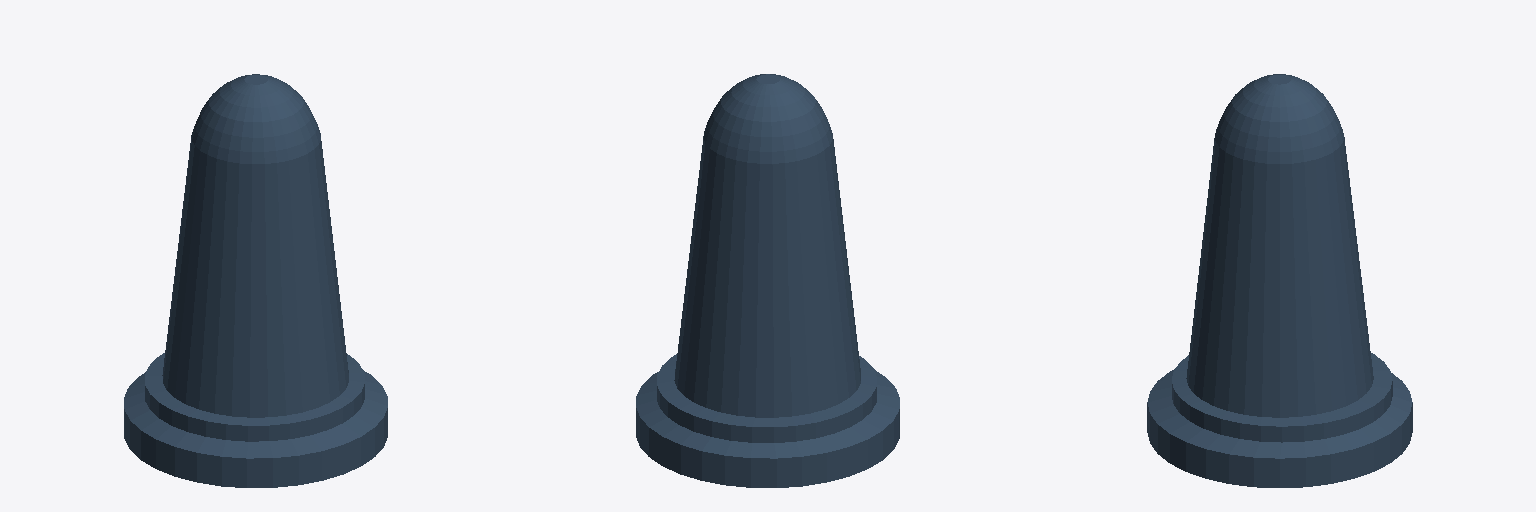
3 views of the same model, side by side, from view 1: azimuth 30°, elevation 25°; view 2: azimuth 150°, elevation 25°; view 3: azimuth 270°, elevation 25° (orthographic).
Parts seen in each view (by area): view 1: Cylinder; view 2: Cylinder; view 3: Cylinder.
Part boxes in pixels (x1,y1,x2,y2): Cylinder: (124,74,387,487); Cylinder: (636,74,899,487); Cylinder: (1147,74,1412,487).
Bounding box in the file's own units: 0.1556 × 0.2286 × 0.1556.
Materials: 1 (1 with a texture image).